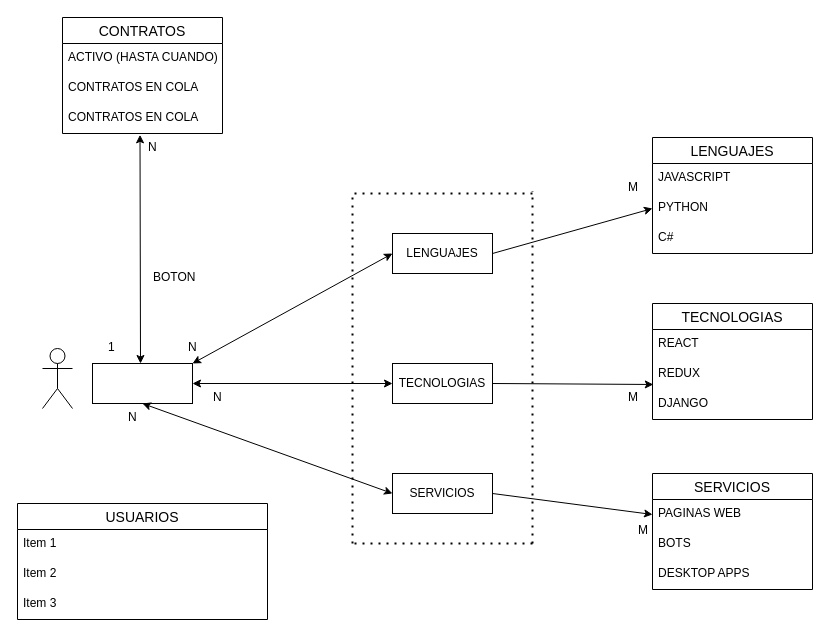
Some shapes in this 830 by 640 pixel diagram are drawn without their labels. The centre of each missing label's shape, as x and y in pixels:
DEV: (57,378)
USUAIROS: (142,383)
